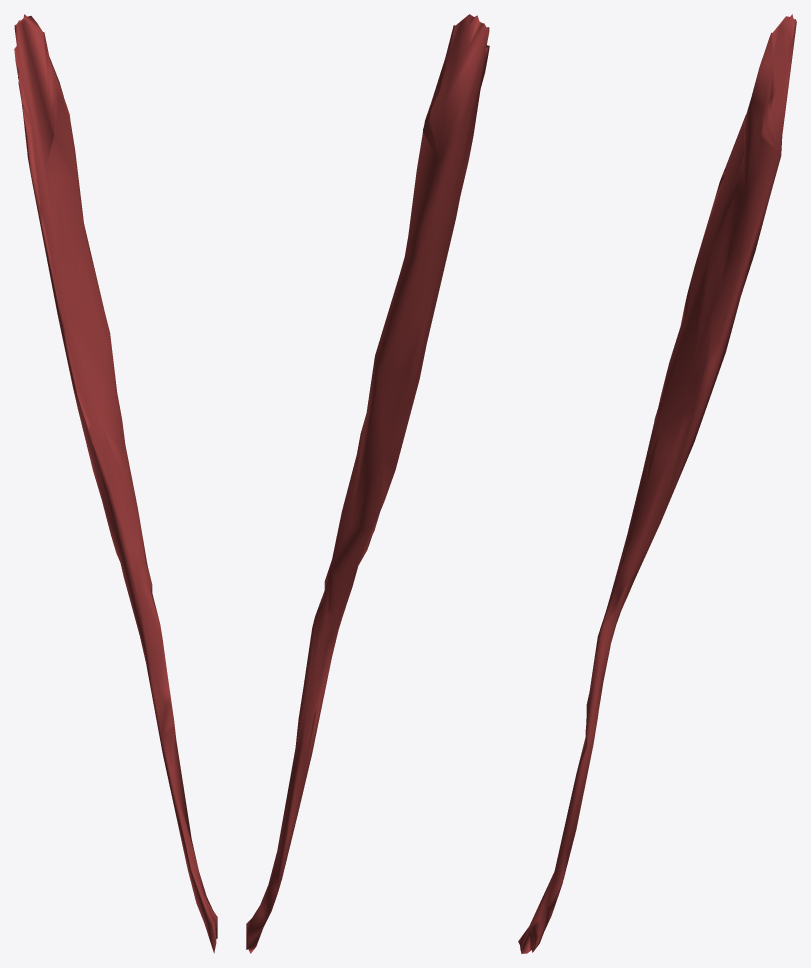
The model's file is ulnar-head-of-extensor-carpi-ulnaris-l.glb.
3 renders of one model, left to right at view 1: azimuth 30°, elevation 25°; view 2: azimuth 210°, elevation 25°; view 3: azimuth 270°, elevation 25°, orthographic. The views are drawn at different scales.
Visible parts, largest first — view 1: Ulnar head of extensor carpi ulnaris.l; view 2: Ulnar head of extensor carpi ulnaris.l; view 3: Ulnar head of extensor carpi ulnaris.l.
Boxes of the visible parts, bbox=[...] form: Ulnar head of extensor carpi ulnaris.l: bbox=[14, 14, 217, 953]; Ulnar head of extensor carpi ulnaris.l: bbox=[246, 14, 489, 953]; Ulnar head of extensor carpi ulnaris.l: bbox=[518, 14, 796, 953].
Size of the model in its own units: 0.0231 by 0.2049 by 0.057.
